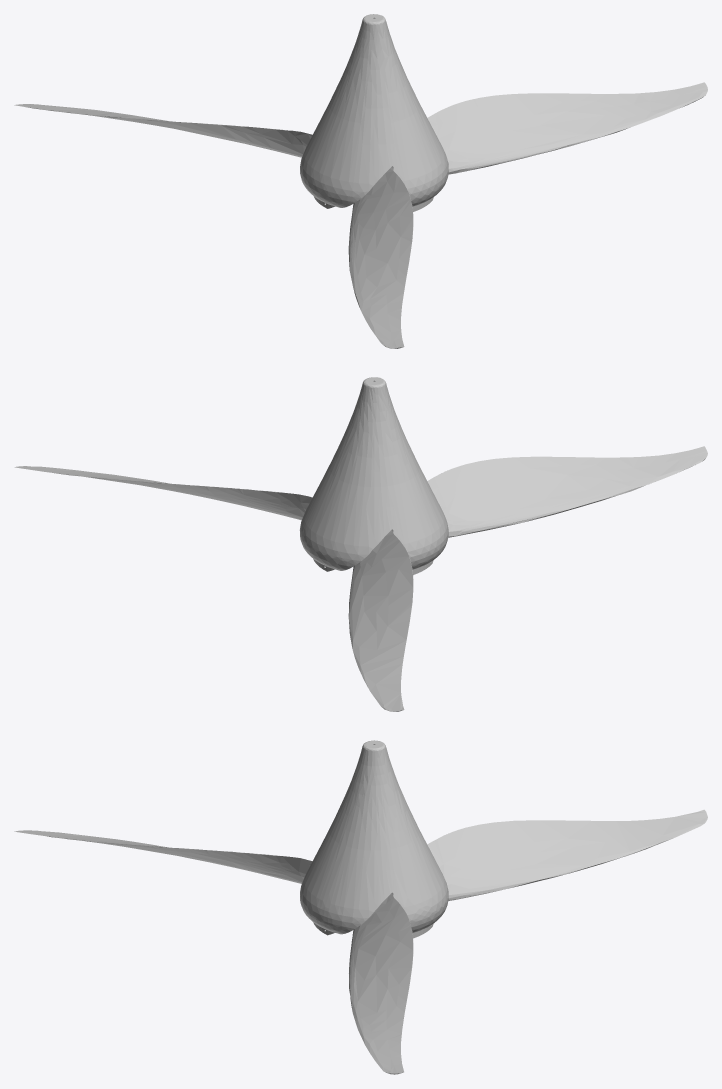
The model's file is tail.fbx.
3 renders of one model, top to bottom at view 1: azimuth 30°, elevation 25°; view 2: azimuth 150°, elevation 25°; view 3: azimuth 270°, elevation 25°, orthographic.
Parts seen in each view (by area): view 1: TailBlades, Tail; view 2: TailBlades, Tail; view 3: TailBlades, Tail.
Part boxes in pixels (box(x1,y1,x2,y2)): TailBlades: box(14, 82, 707, 348); Tail: box(300, 14, 448, 211); TailBlades: box(14, 446, 707, 711); Tail: box(299, 377, 448, 574); TailBlades: box(14, 809, 707, 1074); Tail: box(300, 740, 448, 938).
Size of the model in its own units: 1.55 by 0.4771 by 1.73.
